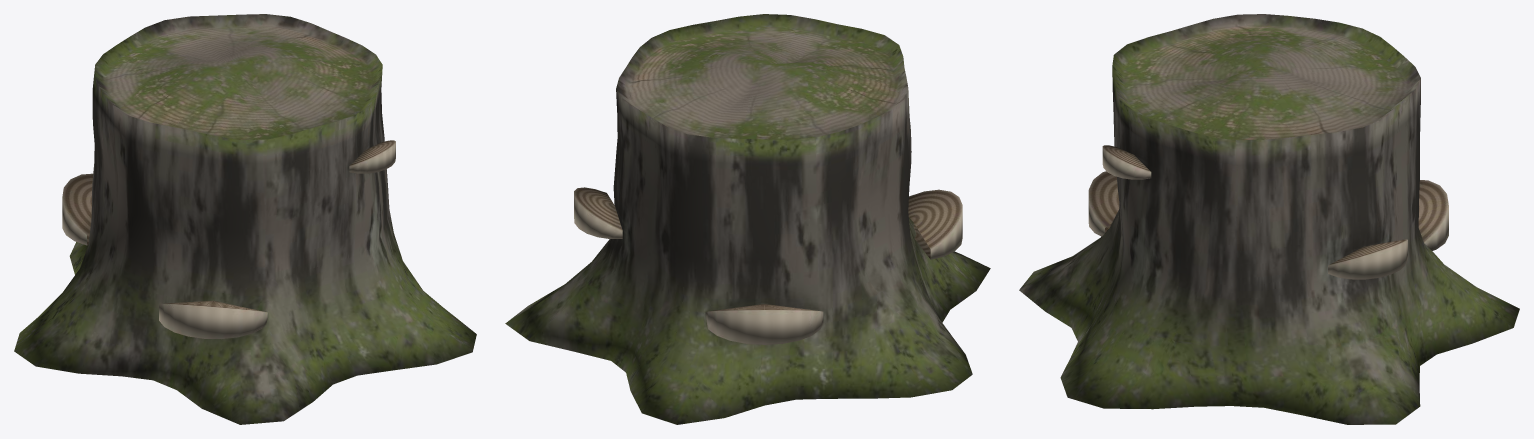
Rendered from parez_1.glb.
3 renders of one model, left to right at view 1: azimuth 30°, elevation 25°; view 2: azimuth 150°, elevation 25°; view 3: azimuth 270°, elevation 25°, orthographic. The views are drawn at different scales.
Parts seen in each view (by area): view 1: parez_1; view 2: parez_1; view 3: parez_1.
Boxes of the visible parts, <box> form: parez_1: <box>14,14,476,424</box>; parez_1: <box>505,14,990,424</box>; parez_1: <box>1019,14,1519,424</box>.
Size of the model in its own units: 0.9476 by 0.58 by 0.9985.
Materials: 1 (1 with a texture image).
